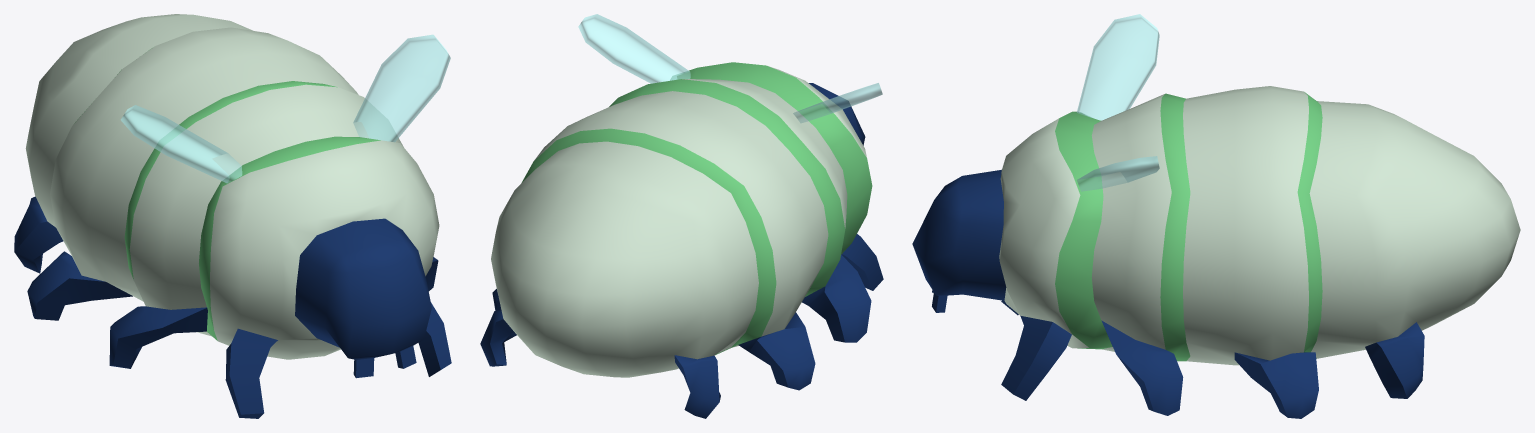
The model's file is bug01.fbx.
The picture shows the model from 3 angles, left to right: view 1: azimuth 30°, elevation 25°; view 2: azimuth 150°, elevation 25°; view 3: azimuth 270°, elevation 25°; orthographic projection. The views are drawn at different scales.
Parts seen in each view (by area): view 1: goodSphere01, pCube9, pCube10; view 2: goodSphere01, pCube9, pCube10; view 3: goodSphere01, pCube10, pCube9.
Boxes of the visible parts, x1,y1,x2,y2 form: goodSphere01: (14, 14, 451, 418); pCube9: (353, 34, 450, 142); pCube10: (120, 105, 242, 183); goodSphere01: (480, 62, 883, 418); pCube9: (578, 14, 690, 83); pCube10: (793, 83, 882, 123); goodSphere01: (912, 86, 1520, 418); pCube10: (1077, 14, 1159, 120); pCube9: (1077, 156, 1159, 191).
Size of the model in its own units: 5.81 by 4.57 by 9.33.
